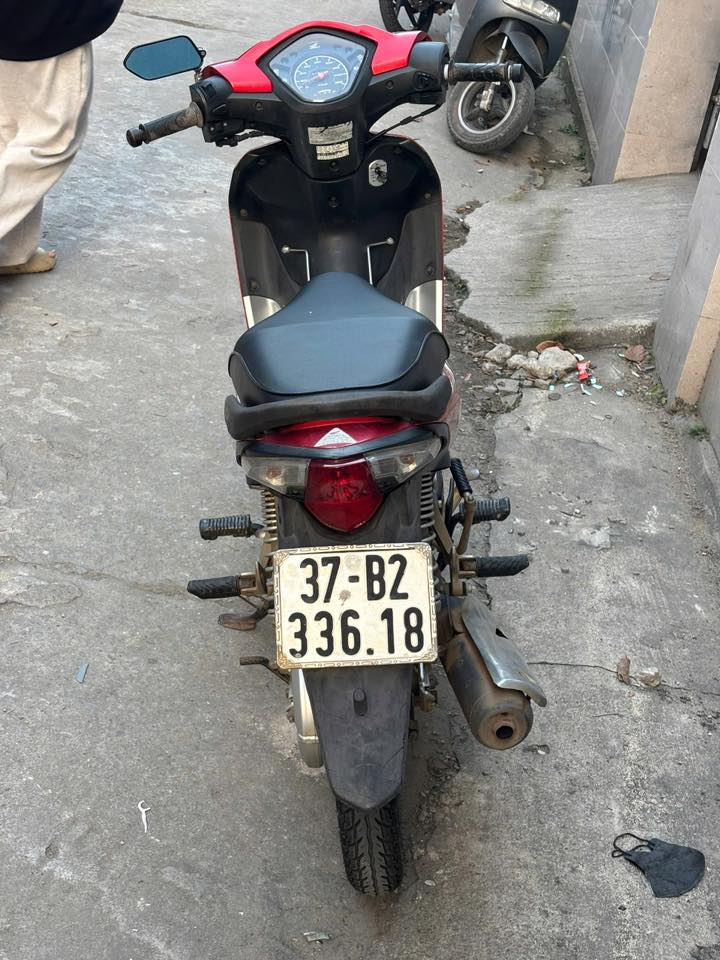bien_so: (262, 536, 450, 681)
